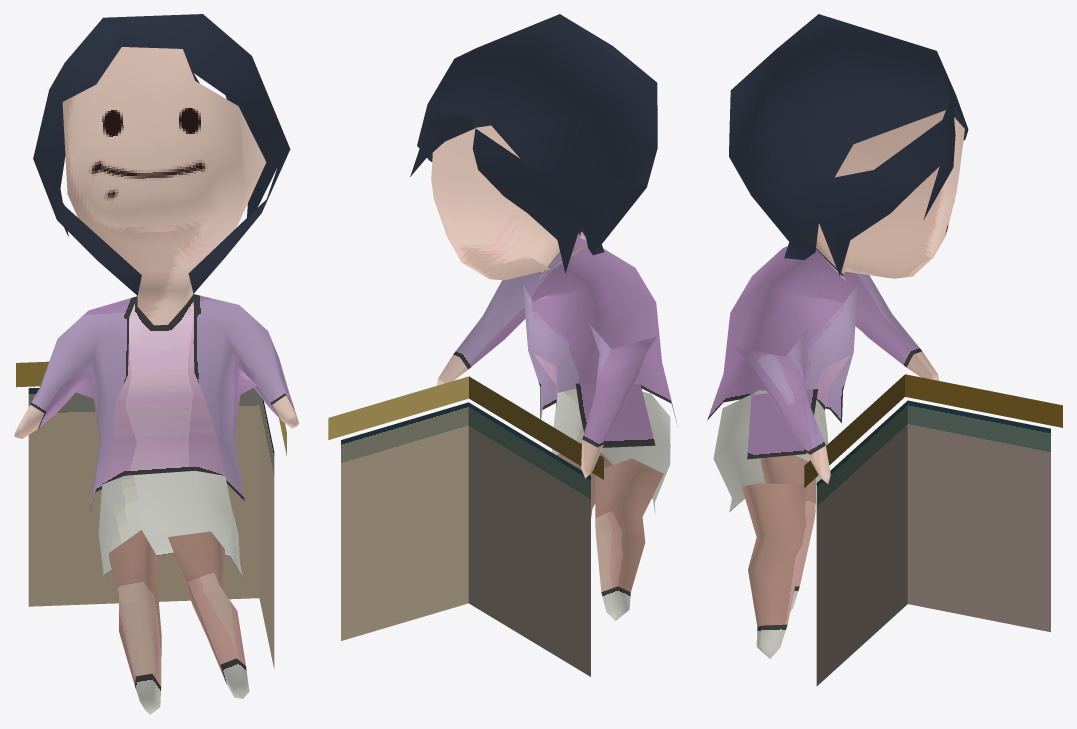
Rendered from ps2_save-icons_3nenbgumi-kanzenbanrerelease.glb.
3 renders of one model, left to right at view 1: azimuth 30°, elevation 25°; view 2: azimuth 150°, elevation 25°; view 3: azimuth 270°, elevation 25°, orthographic. The views are drawn at different scales.
Parts seen in each view (by area): view 1: g1.icn; view 2: g1.icn; view 3: g1.icn.
Part boxes in pixels (left/top/right/bottom): g1.icn: left=14, top=14, right=299, bottom=714; g1.icn: left=328, top=14, right=677, bottom=676; g1.icn: left=707, top=14, right=1062, bottom=686.
Bounding box in the file's own units: 1.82 × 4.03 × 2.14.
Materials: 1 (1 with a texture image).
